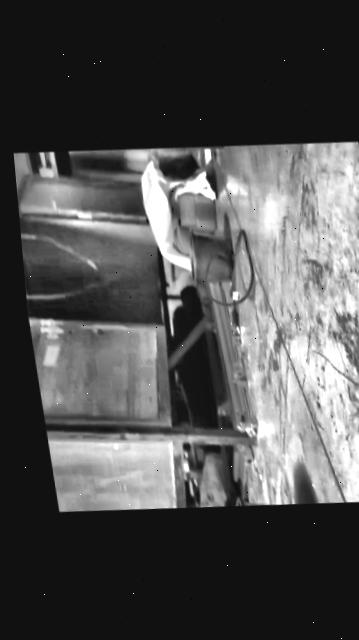pot: (173, 224, 237, 293)
